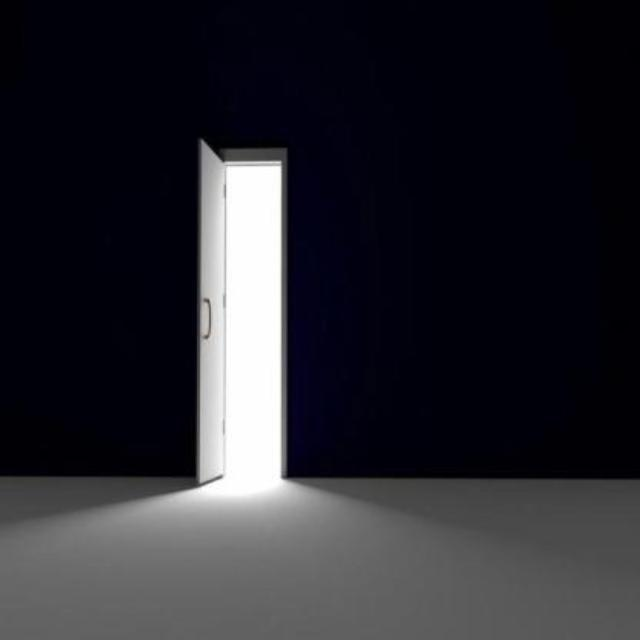door: (188, 134, 232, 492)
